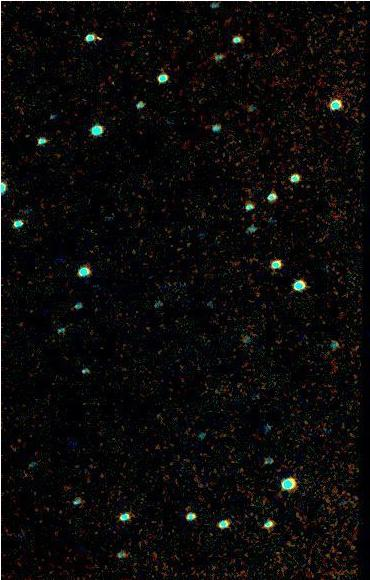star: (81, 23, 111, 53)
